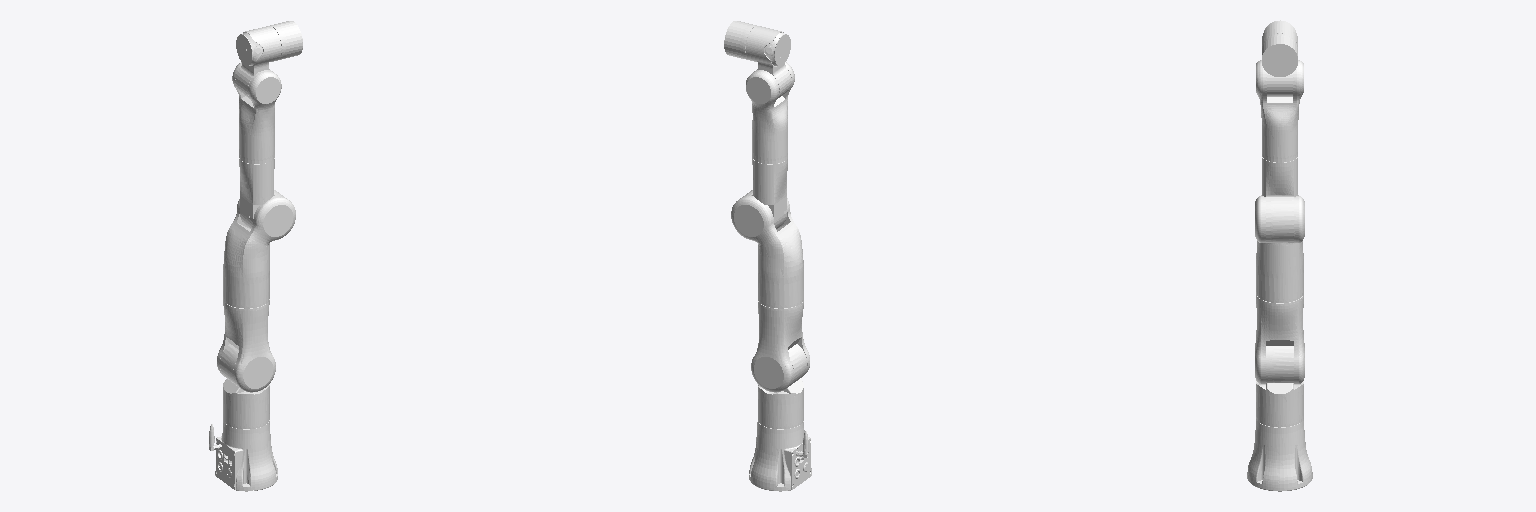
URDF robot description (rm_gen72_description):
<?xml version="1.0" encoding="utf-8"?>
<robot
  name="rm_gen72_description">
  <link
    name="base_link">
    <inertial>
      <origin
        xyz="0.000608631599864255 0.000101410841221341 0.0500536423028978"
        rpy="0 0 0" />
      <mass
        value="0.725732279372221" />
      <inertia
        ixx="0.00116526259312757"
        ixy="3.86984764040053E-06"
        ixz="3.61598634195252E-05"
        iyy="0.00114387939249157"
        iyz="-1.69159565748577E-06"
        izz="0.000799620765266164" />
    </inertial>
    <visual>
      <origin
        xyz="0 0 0"
        rpy="0 0 0" />
      <geometry>
        <mesh
          filename="package://rm_description/meshes/rm_gen72_arm/base_link.STL" />
      </geometry>
      <material
        name="">
        <color
          rgba="1 1 1 1" />
      </material>
    </visual>
    <collision>
      <origin
        xyz="0 0 0"
        rpy="0 0 0" />
      <geometry>
        <mesh
          filename="package://rm_description/meshes/rm_gen72_arm/base_link.STL" />
      </geometry>
    </collision>
  </link>
  <link
    name="Link1">
    <inertial>
      <origin
        xyz="3.54241616239891E-07 -6.04073277655109E-05 -0.0474562076947793"
        rpy="0 0 0" />
      <mass
        value="0.511231576042974" />
      <inertia
        ixx="0.000959440501675413"
        ixy="-1.90967914521654E-09"
        ixz="-7.95751539476966E-09"
        iyy="0.00102039305288465"
        iyz="1.46570590325123E-06"
        izz="0.000388714616194907" />
    </inertial>
    <visual>
      <origin
        xyz="0 0 0"
        rpy="0 0 0" />
      <geometry>
        <mesh
          filename="package://rm_description/meshes/rm_gen72_arm/Link1.STL" />
      </geometry>
      <material
        name="">
        <color
          rgba="1 1 1 1" />
      </material>
    </visual>
    <collision>
      <origin
        xyz="0 0 0"
        rpy="0 0 0" />
      <geometry>
        <mesh
          filename="package://rm_description/meshes/rm_gen72_arm/Link1.STL" />
      </geometry>
    </collision>
  </link>
  <joint
    name="joint1"
    type="revolute">
    <origin
      xyz="0 0 0.218"
      rpy="0 0 0" />
    <parent
      link="base_link" />
    <child
      link="Link1" />
    <axis
      xyz="0 0 1" />
    <limit
      lower="-3.0014"
      upper="3.0014"
      effort="25"
      velocity="3.141" />
  </joint>
  <link
    name="Link2">
    <inertial>
      <origin
        xyz="-7.13241796657627E-07 -0.0576246216952895 -3.88440270542586E-05"
        rpy="0 0 0" />
      <mass
        value="0.551907023014854" />
      <inertia
        ixx="0.00142140348660694"
        ixy="-1.11761928109077E-08"
        ixz="1.36372804172861E-08"
        iyy="0.000525714272398651"
        iyz="1.30499471806307E-06"
        izz="0.00127234961251408" />
    </inertial>
    <visual>
      <origin
        xyz="0 0 0"
        rpy="0 0 0" />
      <geometry>
        <mesh
          filename="package://rm_description/meshes/rm_gen72_arm/Link2.STL" />
      </geometry>
      <material
        name="">
        <color
          rgba="1 1 1 1" />
      </material>
    </visual>
    <collision>
      <origin
        xyz="0 0 0"
        rpy="0 0 0" />
      <geometry>
        <mesh
          filename="package://rm_description/meshes/rm_gen72_arm/Link2.STL" />
      </geometry>
    </collision>
  </link>
  <joint
    name="joint2"
    type="revolute">
    <origin
      xyz="0 0 0"
      rpy="-1.5708 0 0" />
    <parent
      link="Link1" />
    <child
      link="Link2" />
    <axis
      xyz="0 0 1" />
    <limit
      lower="-1.8323"
      upper="1.8323"
      effort="25"
      velocity="3.141" />
  </joint>
  <link
    name="Link3">
    <inertial>
      <origin
        xyz="0.00897441376214199 2.62633968732563E-05 -0.0738284702130494"
        rpy="0 0 0" />
      <mass
        value="0.774130450031732" />
      <inertia
        ixx="0.00242102073961797"
        ixy="-6.22596416744622E-07"
        ixz="-0.000489521447339777"
        iyy="0.00248694314969316"
        iyz="-1.4854289556066E-06"
        izz="0.00090099718971981" />
    </inertial>
    <visual>
      <origin
        xyz="0 0 0"
        rpy="0 0 0" />
      <geometry>
        <mesh
          filename="package://rm_description/meshes/rm_gen72_arm/Link3.STL" />
      </geometry>
      <material
        name="">
        <color
          rgba="1 1 1 1" />
      </material>
    </visual>
    <collision>
      <origin
        xyz="0 0 0"
        rpy="0 0 0" />
      <geometry>
        <mesh
          filename="package://rm_description/meshes/rm_gen72_arm/Link3.STL" />
      </geometry>
    </collision>
  </link>
  <joint
    name="joint3"
    type="revolute">
    <origin
      xyz="0 -0.28 0"
      rpy="1.5708 0 0" />
    <parent
      link="Link2" />
    <child
      link="Link3" />
    <axis
      xyz="0 0 1" />
    <limit
      lower="-3.0014"
      upper="3.0014"
      effort="25"
      velocity="3.141" />
  </joint>
  <link
    name="Link4">
    <inertial>
      <origin
        xyz="-0.0096243903445302 0.0352034287339325 0.000174576348464232"
        rpy="0 0 0" />
      <mass
        value="0.437130215853835" />
      <inertia
        ixx="0.000866914153248166"
        ixy="0.000148761646913658"
        ixz="-7.42553547350131E-07"
        iyy="0.000267753002587664"
        iyz="2.6805826548563E-06"
        izz="0.000952324298928138" />
    </inertial>
    <visual>
      <origin
        xyz="0 0 0"
        rpy="0 0 0" />
      <geometry>
        <mesh
          filename="package://rm_description/meshes/rm_gen72_arm/Link4.STL" />
      </geometry>
      <material
        name="">
        <color
          rgba="1 1 1 1" />
      </material>
    </visual>
    <collision>
      <origin
        xyz="0 0 0"
        rpy="0 0 0" />
      <geometry>
        <mesh
          filename="package://rm_description/meshes/rm_gen72_arm/Link4.STL" />
      </geometry>
    </collision>
  </link>
  <joint
    name="joint4"
    type="revolute">
    <origin
      xyz="0.04 0 0"
      rpy="1.5708 0 0" />
    <parent
      link="Link3" />
    <child
      link="Link4" />
    <axis
      xyz="0 0 1" />
    <limit
      lower="-2.8792"
      upper="0.9597"
      effort="25"
      velocity="3.141" />
  </joint>
  <link
    name="Link5">
    <inertial>
      <origin
        xyz="-4.79650184286029E-07 -3.84737693792612E-05 -0.0669554878200541"
        rpy="0 0 0" />
      <mass
        value="0.424276753764529" />
      <inertia
        ixx="0.0011244489011316"
        ixy="7.56623220194193E-09"
        ixz="-1.71276249932631E-08"
        iyy="0.00103382374928123"
        iyz="8.2469441747875E-07"
        izz="0.000274640088277484" />
    </inertial>
    <visual>
      <origin
        xyz="0 0 0"
        rpy="0 0 0" />
      <geometry>
        <mesh
          filename="package://rm_description/meshes/rm_gen72_arm/Link5.STL" />
      </geometry>
      <material
        name="">
        <color
          rgba="1 1 1 1" />
      </material>
    </visual>
    <collision>
      <origin
        xyz="0 0 0"
        rpy="0 0 0" />
      <geometry>
        <mesh
          filename="package://rm_description/meshes/rm_gen72_arm/Link5.STL" />
      </geometry>
    </collision>
  </link>
  <joint
    name="joint5"
    type="revolute">
    <origin
      xyz="-0.019 0.2525 0"
      rpy="-1.5708 0 0" />
    <parent
      link="Link4" />
    <child
      link="Link5" />
    <axis
      xyz="0 0 1" />
    <limit
      lower="-3.0014"
      upper="3.0014"
      effort="5"
      velocity="3.141" />
  </joint>
  <link
    name="Link6">
    <inertial>
      <origin
        xyz="0.00184221691932426 0.0379763265035087 -9.21090904324274E-05"
        rpy="0 0 0" />
      <mass
        value="0.302793039332829" />
      <inertia
        ixx="0.00014011480503376"
        ixy="-3.00204828273403E-06"
        ixz="-4.58155498967514E-10"
        iyy="0.000132631402640971"
        iyz="7.01344540252765E-10"
        izz="0.000155721320872423" />
    </inertial>
    <visual>
      <origin
        xyz="0 0 0"
        rpy="0 0 0" />
      <geometry>
        <mesh
          filename="package://rm_description/meshes/rm_gen72_arm/Link6.STL" />
      </geometry>
      <material
        name="">
        <color
          rgba="1 1 1 1" />
      </material>
    </visual>
    <collision>
      <origin
        xyz="0 0 0"
        rpy="0 0 0" />
      <geometry>
        <mesh
          filename="package://rm_description/meshes/rm_gen72_arm/Link6.STL" />
      </geometry>
    </collision>
  </link>
  <joint
    name="joint6"
    type="revolute">
    <origin
      xyz="0 0 0"
      rpy="1.5708 0 0" />
    <parent
      link="Link5" />
    <child
      link="Link6" />
    <axis
      xyz="0 0 1" />
    <limit
      lower="-1.707"
      upper="1.783"
      effort="5"
      velocity="3.141" />
  </joint>
  <link
    name="Link7">
    <inertial>
      <origin
        xyz="0.000199885014846801 0.0211000079719058 -4.90848725240361E-08"
        rpy="0 0 0" />
      <mass
        value="0.127401822079286" />
      <inertia
        ixx="4.95156474993269E-05"
        ixy="3.10143792228514E-12"
        ixz="2.55814128583062E-10"
        iyy="6.12184422048225E-05"
        iyz="-1.37181281244006E-11"
        izz="4.95166727643872E-05" />
    </inertial>
    <visual>
      <origin
        xyz="0 0 0"
        rpy="0 0 0" />
      <geometry>
        <mesh
          filename="package://rm_description/meshes/rm_gen72_arm/Link7.STL" />
      </geometry>
      <material
        name="">
        <color
          rgba="1 1 1 1" />
      </material>
    </visual>
    <collision>
      <origin
        xyz="0 0 0"
        rpy="0 0 0" />
      <geometry>
        <mesh
          filename="package://rm_description/meshes/rm_gen72_arm/Link7.STL" />
      </geometry>
    </collision>
  </link>
  <joint
    name="joint7"
    type="revolute">
    <origin
      xyz="0.0742 0.067 0"
      rpy="0 0 1.5708" />
    <parent
      link="Link6" />
    <child
      link="Link7" />
    <axis
      xyz="0 1 0" />
    <limit
      lower="-3.0014"
      upper="3.0014"
      effort="5"
      velocity="3.141" />
  </joint>
</robot>

--- Render facts (derived) ---
3 views of the same robot in one strip: view 1: azimuth 30°, elevation 25°; view 2: azimuth 150°, elevation 25°; view 3: azimuth 270°, elevation 25° (orthographic).
Model rm_gen72_description with 8 links and 7 joints (7 revolute), rooted at base_link, posed all joints at 0.
Visible links, largest first — view 1: Link3, base_link, Link2, Link5, Link1, Link6, Link4, Link7; view 2: Link3, base_link, Link2, Link5, Link1, Link6, Link4, Link7; view 3: Link3, base_link, Link5, Link1, Link2, Link4, Link7, Link6.
Link boxes in pixels (bbox=[...]): Link3: bbox=[223, 196, 295, 308]; base_link: bbox=[209, 420, 277, 491]; Link2: bbox=[217, 299, 275, 392]; Link5: bbox=[232, 62, 281, 163]; Link1: bbox=[220, 344, 269, 428]; Link6: bbox=[235, 26, 281, 99]; Link4: bbox=[239, 158, 283, 228]; Link7: bbox=[270, 21, 302, 60]; Link3: bbox=[731, 196, 803, 308]; base_link: bbox=[749, 421, 811, 491]; Link2: bbox=[751, 301, 809, 392]; Link5: bbox=[746, 62, 794, 163]; Link1: bbox=[758, 344, 806, 428]; Link6: bbox=[745, 26, 791, 98]; Link4: bbox=[743, 158, 787, 228]; Link7: bbox=[724, 21, 756, 59]; Link3: bbox=[1255, 195, 1304, 302]; base_link: bbox=[1247, 419, 1312, 491]; Link5: bbox=[1256, 60, 1303, 162]; Link1: bbox=[1256, 346, 1303, 427]; Link2: bbox=[1255, 295, 1304, 383]; Link4: bbox=[1262, 157, 1297, 242]; Link7: bbox=[1262, 33, 1297, 76]; Link6: bbox=[1262, 20, 1297, 96].
Size in the robot's own frame: 0.16 by 0.11 by 0.8487 metres.
Meshes: 8 distinct files referenced, 8 mesh visuals loaded (8 binary STL).
